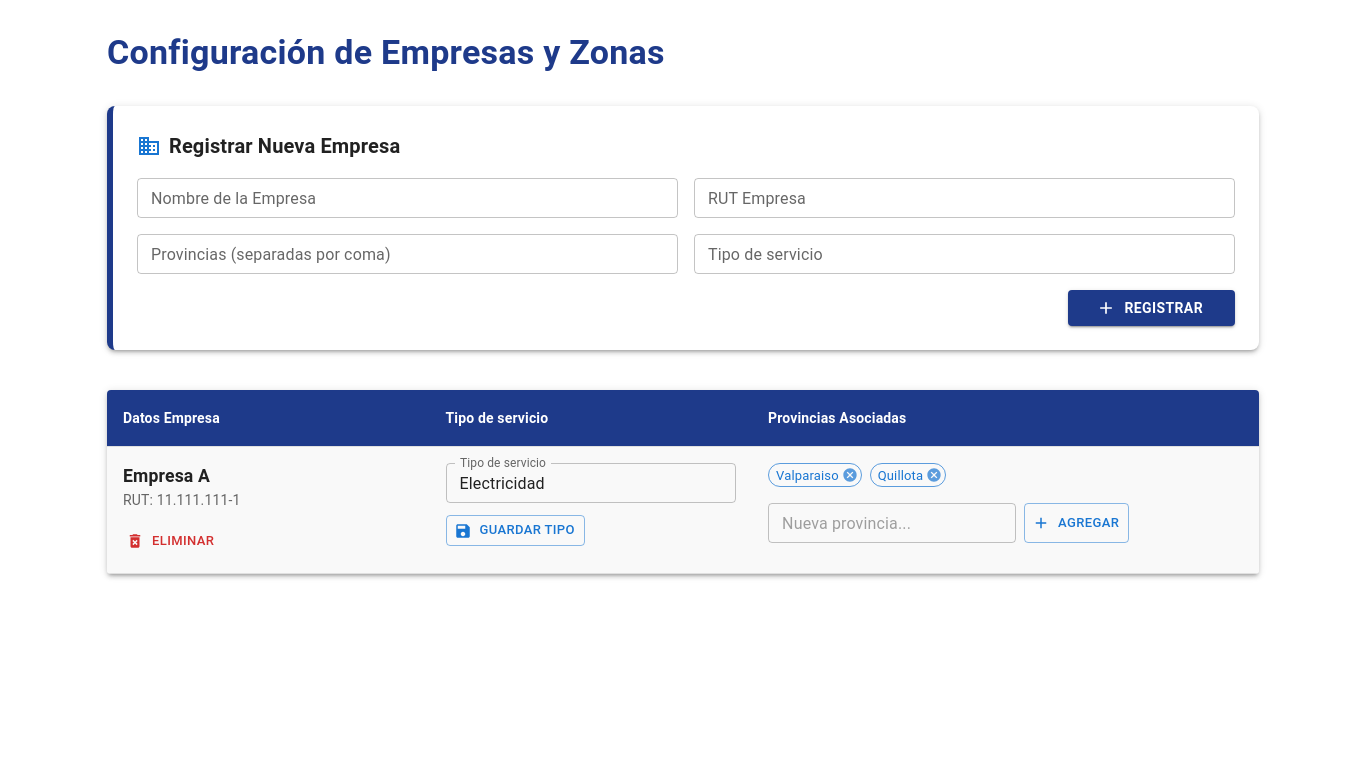
Test case: Una escritura fallida conserva ambas caches
Click the button "Guardar tipo" at (515, 531), box [446,516,585,546]
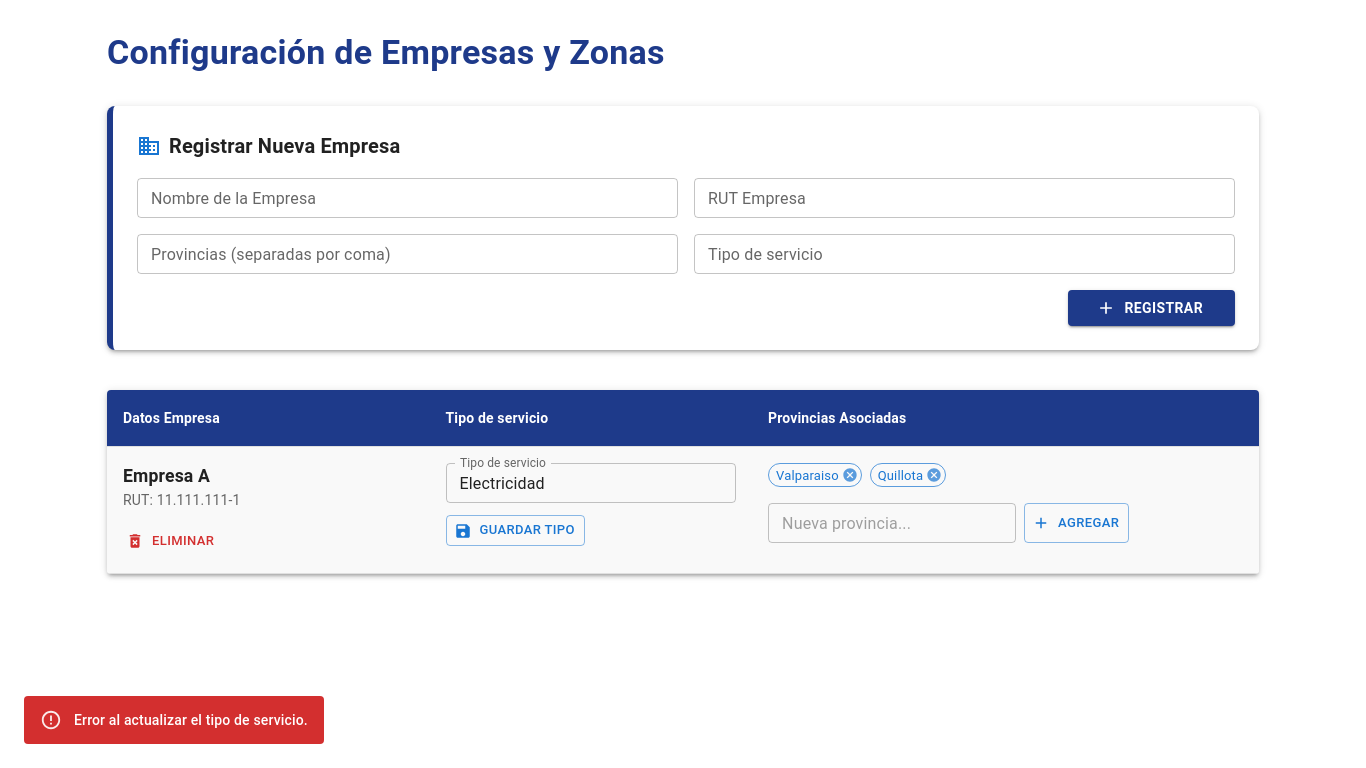
Result: the text "Error al actualizar el tipo de servicio." is shown at [74,712,308,728]
